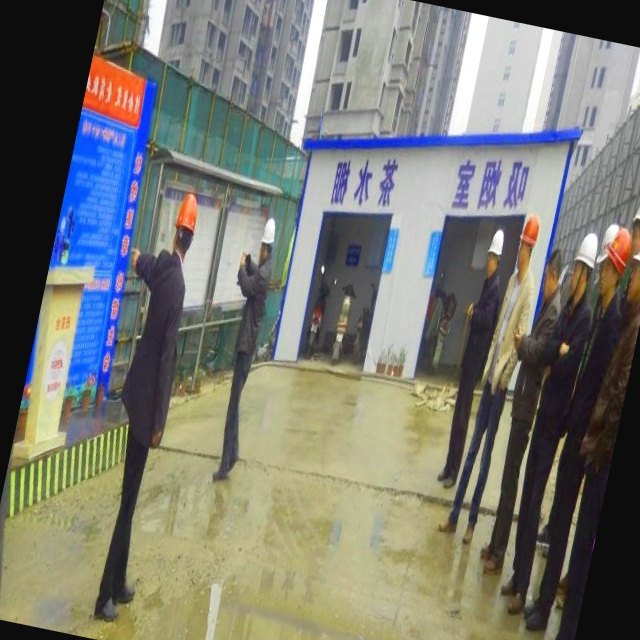Con_Casco: (167, 186, 204, 261)
Sin_Chaleco: (115, 245, 197, 437)
